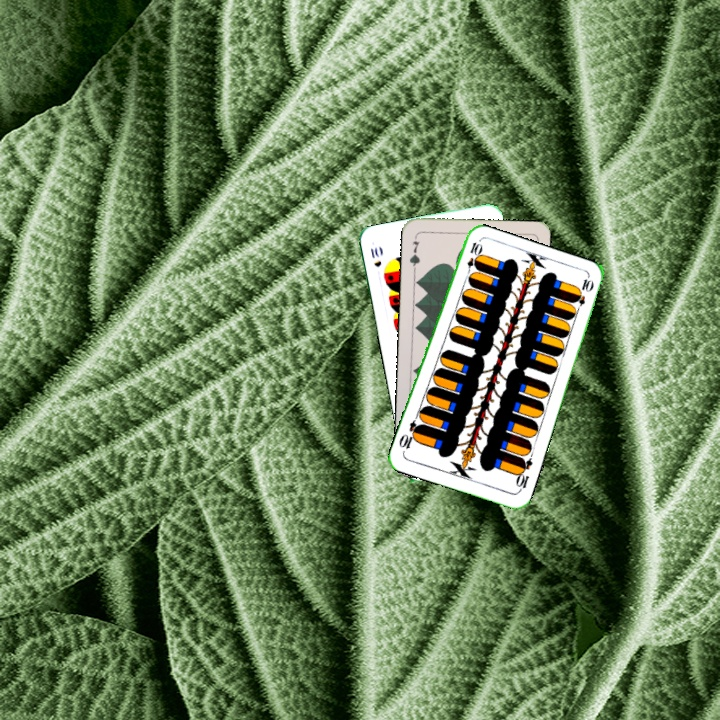E10: (512, 454, 535, 494), (463, 238, 483, 279)
G7: (405, 237, 422, 272)
S10: (367, 243, 384, 270)
